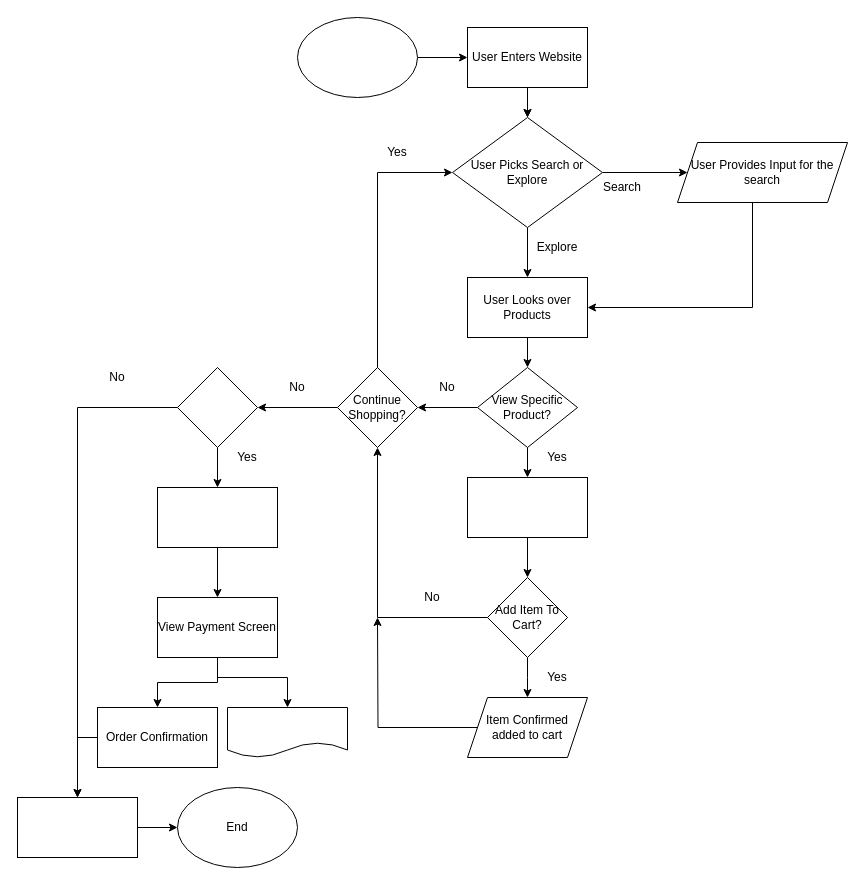
Some shapes in this 865 by 885 pixel diagram are drawn without their labels. The shapes that lost their labels are listed below. From the top down, each one's centre as x and y in pixels, then its label:
At point 357,57: "Start".
At point 217,407: "CheckOut?".
At point 217,517: "View Cart Screen".
At point 527,507: "Product page opens".
At point 287,732: "Email comfirmation sent".
At point 77,827: "Leave Website".
